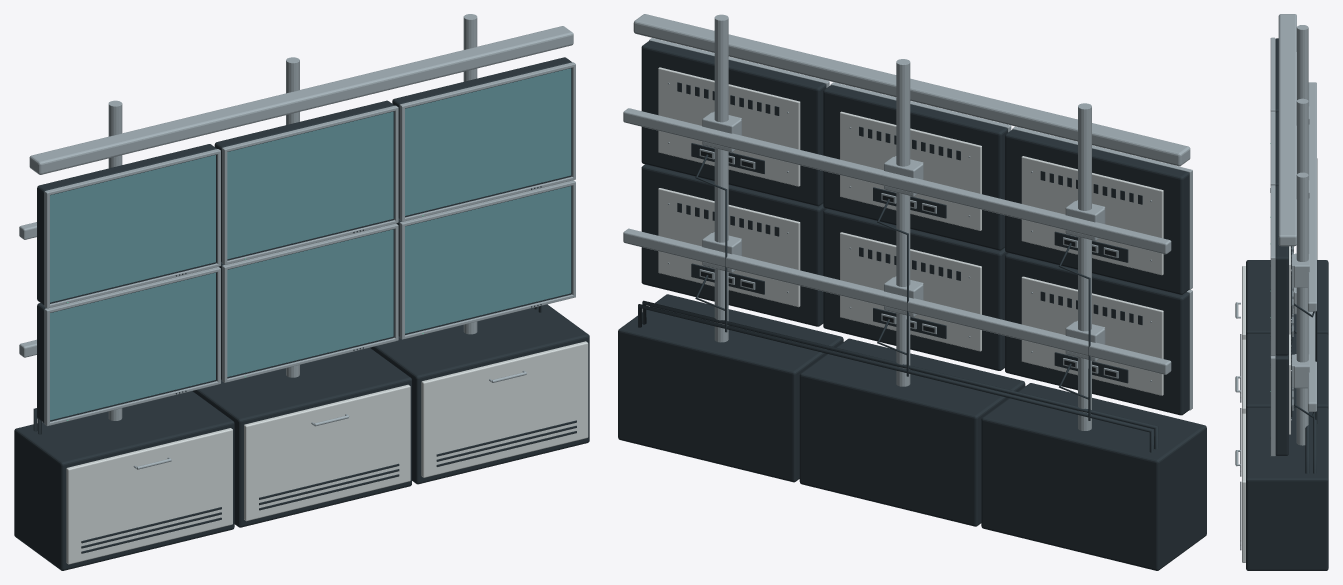
Rendered from SC_VideoWall.fbx.
3 views of the same model, side by side, from view 1: azimuth 30°, elevation 25°; view 2: azimuth 150°, elevation 25°; view 3: azimuth 270°, elevation 25° (orthographic). The views are drawn at different scales.
Visible parts, largest first — view 1: SC_VideoWall; view 2: SC_VideoWall; view 3: SC_VideoWall.
Boxes of the visible parts, x1,y1,x2,y2 form: SC_VideoWall: (14, 14, 589, 570); SC_VideoWall: (618, 14, 1206, 570); SC_VideoWall: (1235, 14, 1328, 570).
Size of the model in its own units: 428 by 324 by 75.6.
